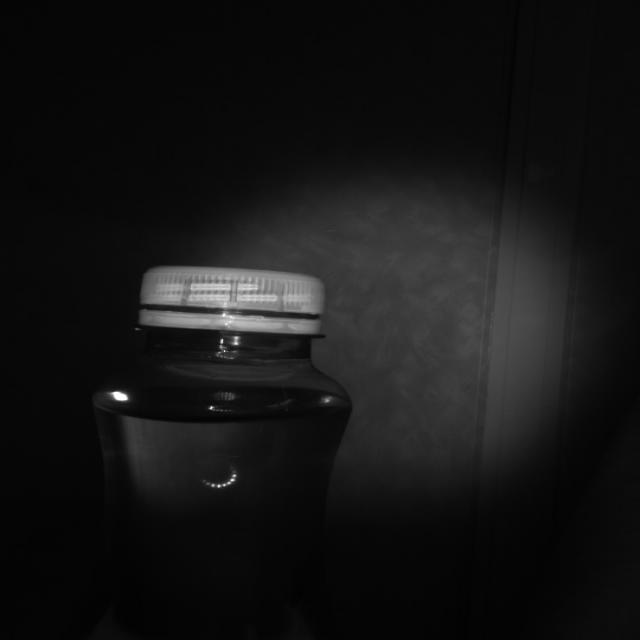Not Good: (138, 266, 321, 336)
